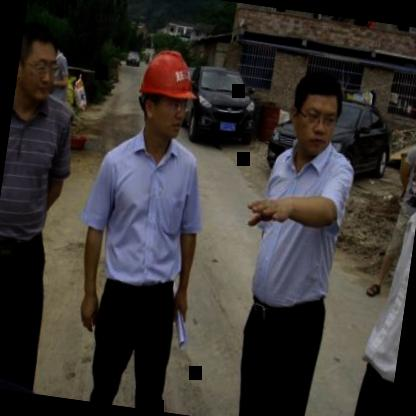head: (283, 61, 352, 162), (13, 16, 67, 108), (407, 87, 416, 204)
helmet: (125, 44, 205, 150)
